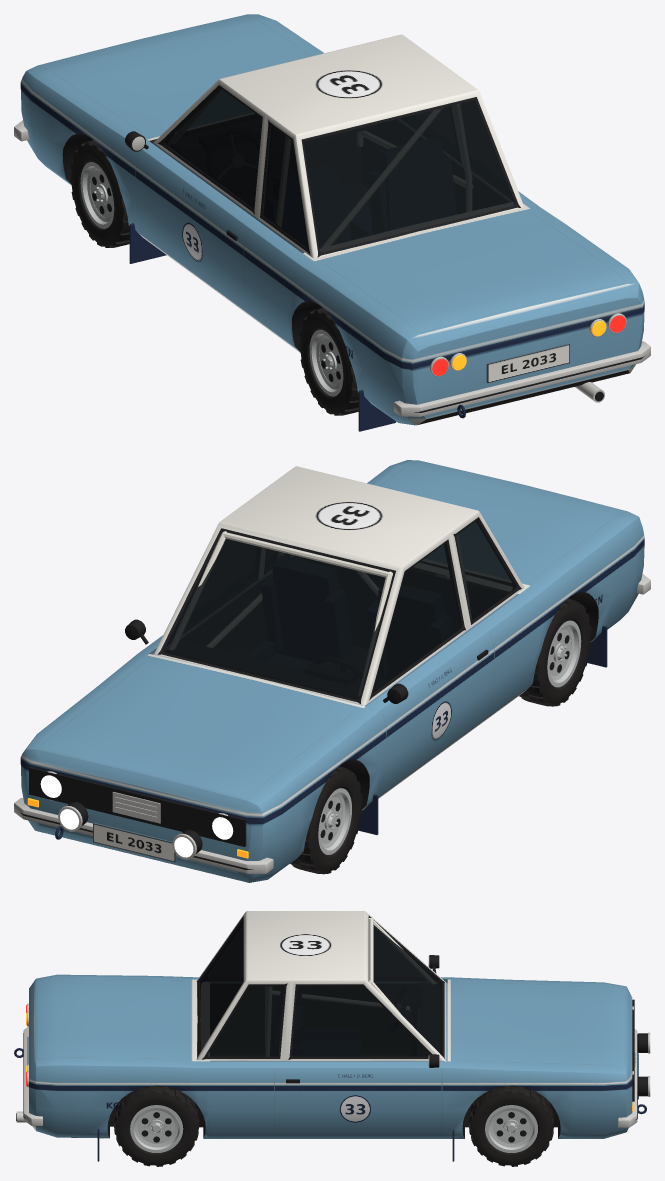
Rendered from CAR-016_Export.fbx.
3 renders of one model, top to bottom at view 1: azimuth 30°, elevation 25°; view 2: azimuth 150°, elevation 25°; view 3: azimuth 270°, elevation 25°, orthographic. The views are drawn at different scales.
Parts seen in each view (by area): view 1: CAR-016_Body, CAR-016_Glass, CAR-016_Bumper_Rear, CAR-016_Wheel_RL_Tire, CAR-016_Wheel_FL_Tire, CAR-016_Trim, CAR-016_Wheel_FL_Rim, CAR-016_Wheel_RL_Rim, CAR-016_MudFlaps, CAR-016_Lights; view 2: CAR-016_Body, CAR-016_Glass, CAR-016_Trim, CAR-016_Wheel_RL_Tire, CAR-016_Wheel_FL_Tire, CAR-016_Lights, CAR-016_Bumper_Front, CAR-016_Interior, CAR-016_Wheel_RL_Rim, CAR-016_Wheel_FL_Rim, CAR-016_MudFlaps, CAR-016_Mirrors; view 3: CAR-016_Body, CAR-016_Glass, CAR-016_Wheel_RR_Tire, CAR-016_Wheel_FR_Tire, CAR-016_Wheel_FR_Rim, CAR-016_Wheel_RR_Rim, CAR-016_Trim, CAR-016_Lights, CAR-016_Bumper_Rear, CAR-016_Interior, CAR-016_Bumper_Front.
Part boxes in pixels (x1=…): CAR-016_Body: x1=20, y1=14, x2=644, y2=425; CAR-016_Glass: x1=165, y1=88, x2=514, y2=252; CAR-016_Bumper_Rear: x1=394, y1=341, x2=650, y2=416; CAR-016_Wheel_RL_Tire: x1=299, y1=307, x2=358, y2=415; CAR-016_Wheel_FL_Tire: x1=70, y1=140, x2=129, y2=247; CAR-016_Trim: x1=226, y1=230, x2=604, y2=418; CAR-016_Wheel_FL_Rim: x1=80, y1=162, x2=114, y2=228; CAR-016_Wheel_RL_Rim: x1=309, y1=329, x2=343, y2=396; CAR-016_MudFlaps: x1=129, y1=223, x2=396, y2=431; CAR-016_Lights: x1=430, y1=313, x2=626, y2=376; CAR-016_Body: x1=20, y1=460, x2=644, y2=882; CAR-016_Glass: x1=164, y1=520, x2=515, y2=699; CAR-016_Trim: x1=29, y1=649, x2=488, y2=862; CAR-016_Wheel_RL_Tire: x1=519, y1=598, x2=591, y2=706; CAR-016_Wheel_FL_Tire: x1=290, y1=766, x2=362, y2=874; CAR-016_Lights: x1=27, y1=771, x2=248, y2=859; CAR-016_Bumper_Front: x1=14, y1=797, x2=273, y2=873; CAR-016_Interior: x1=198, y1=531, x2=392, y2=631; CAR-016_Wheel_RL_Rim: x1=547, y1=620, x2=581, y2=687; CAR-016_Wheel_FL_Rim: x1=318, y1=788, x2=351, y2=854; CAR-016_MudFlaps: x1=358, y1=625, x2=607, y2=834; CAR-016_Mirrors: x1=125, y1=619, x2=408, y2=703; CAR-016_Body: x1=29, y1=911, x2=632, y2=1138; CAR-016_Glass: x1=199, y1=920, x2=441, y2=1056; CAR-016_Wheel_RR_Tire: x1=114, y1=1085, x2=199, y2=1166; CAR-016_Wheel_FR_Tire: x1=469, y1=1085, x2=553, y2=1166; CAR-016_Wheel_FR_Rim: x1=485, y1=1105, x2=537, y2=1152; CAR-016_Wheel_RR_Rim: x1=130, y1=1105, x2=183, y2=1152; CAR-016_Trim: x1=14, y1=999, x2=646, y2=1122; CAR-016_Lights: x1=26, y1=1003, x2=650, y2=1111; CAR-016_Bumper_Rear: x1=23, y1=1026, x2=42, y2=1125; CAR-016_Interior: x1=279, y1=918, x2=402, y2=1042; CAR-016_Bumper_Front: x1=618, y1=1029, x2=637, y2=1127.
Bounding box in the file's own units: 1.75 × 1.38 × 4.49.
Materials: 17 (2 with a texture image).
